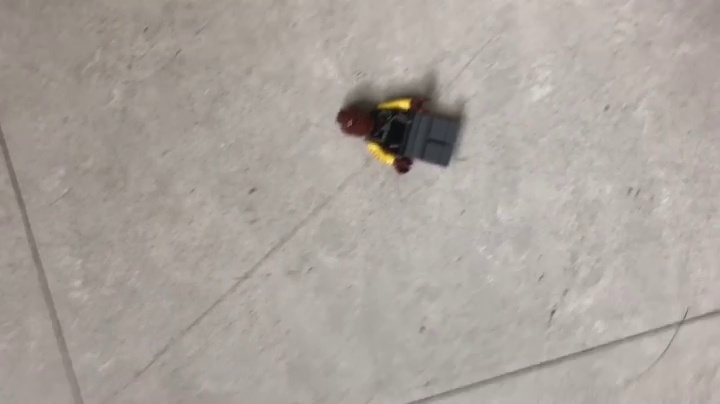people: (336, 95, 463, 176)
